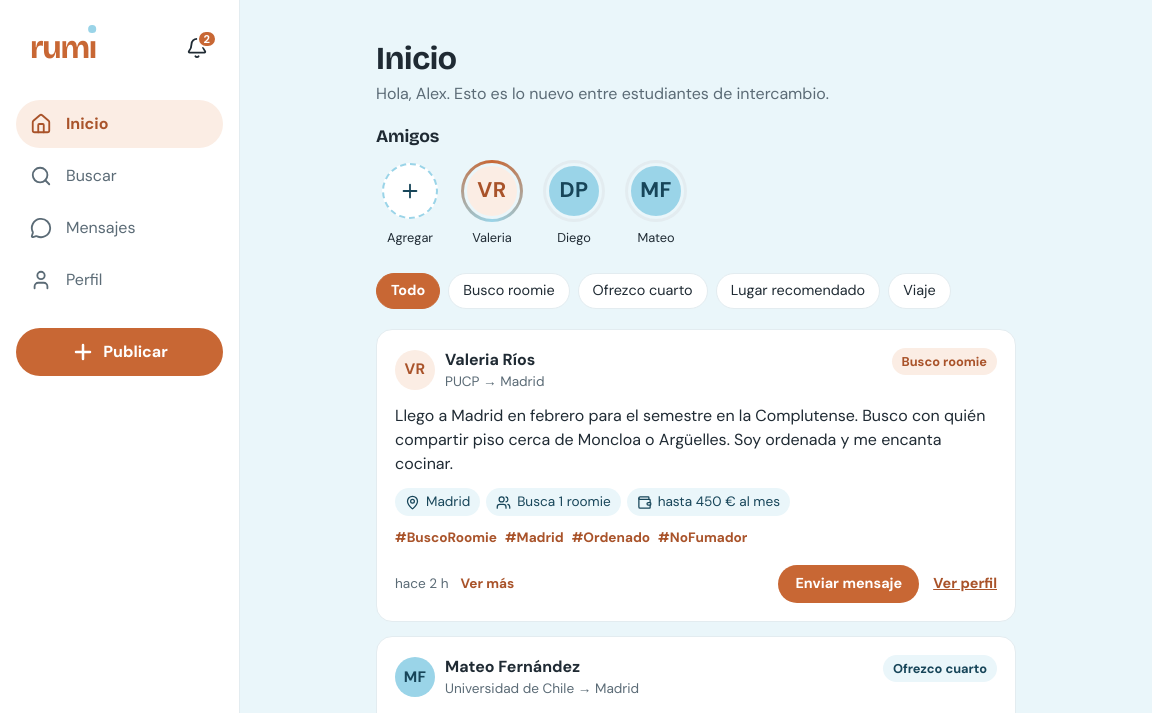
Test: un error inesperado al abrir el chat se muestra en la publicación
Step 1. Click the button "Enviar mensaje" → [849, 584], box [778, 565, 919, 603]
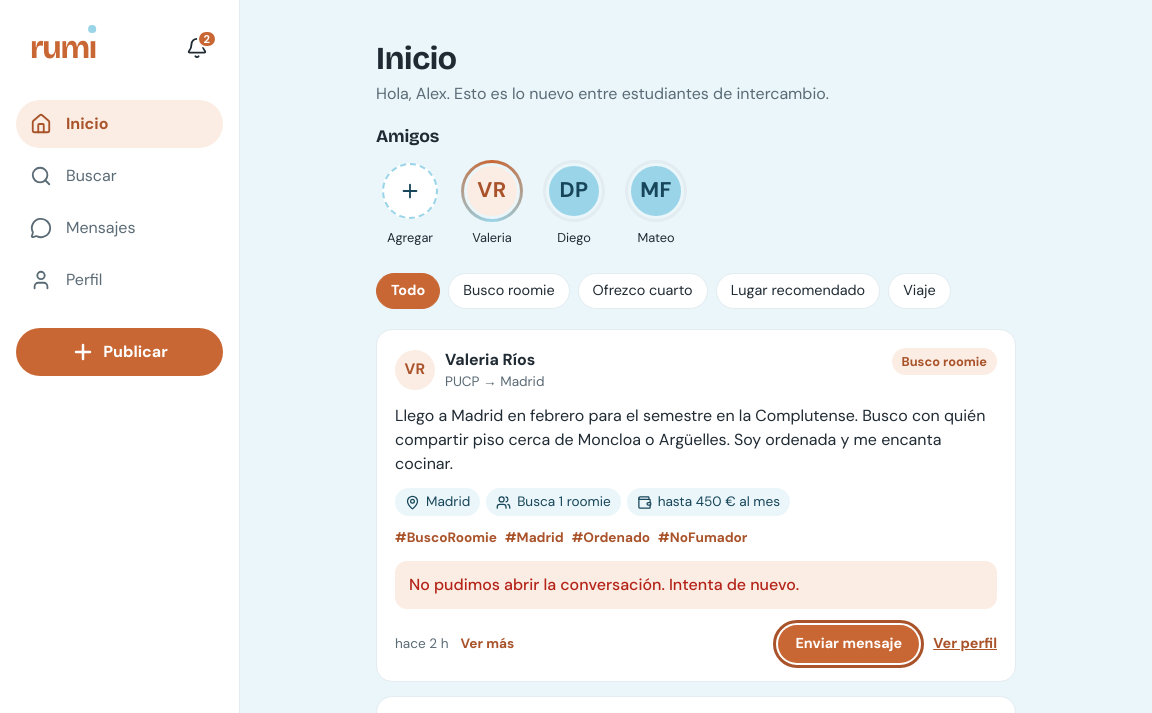
Result: the message reads "No pudimos abrir la conversación. Intenta de nuevo." at [409, 574, 799, 595]
